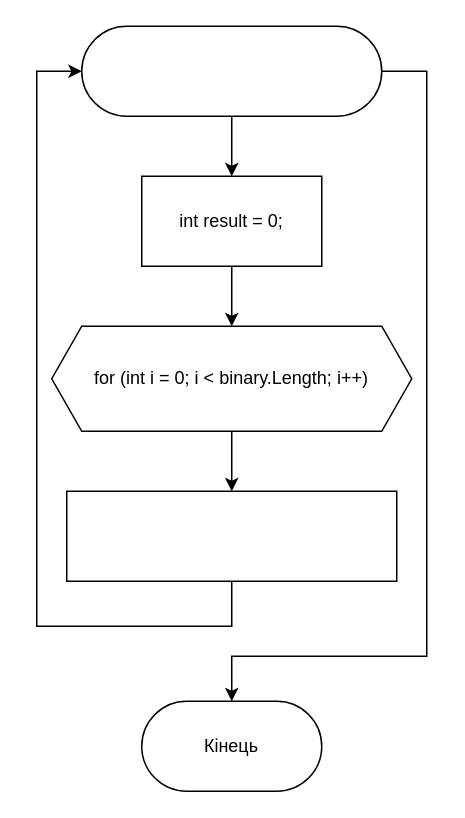
This 465x818 diagram has some shape labels left out. Here are the shapes that lost their labels. From the top down, the box of each, then its label:
(80, 25, 382, 116): static int ConvertBinaryToDecimal (string binary)
(65, 490, 397, 581): result += ((int)binary[i] - 48) * (int)Math.Pow(2, binary.Length - 1 - i);
